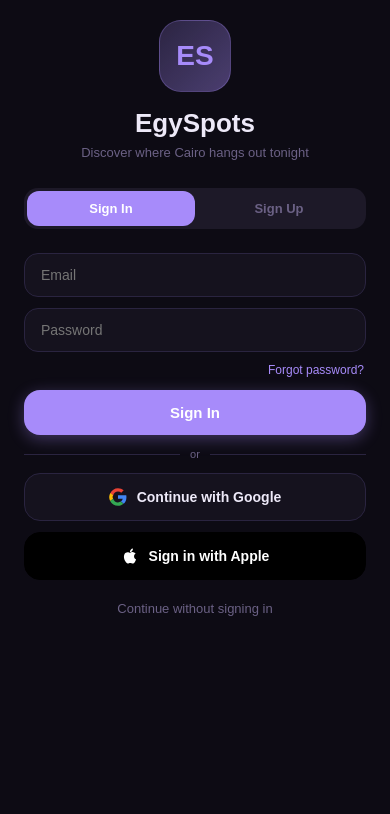
AuthScreen › switches to sign-up mode and shows name field
The width and height of the screenshot is (390, 814).
Step 1. Click the button "Sign Up" → click(279, 208), box [195,191,363,226]
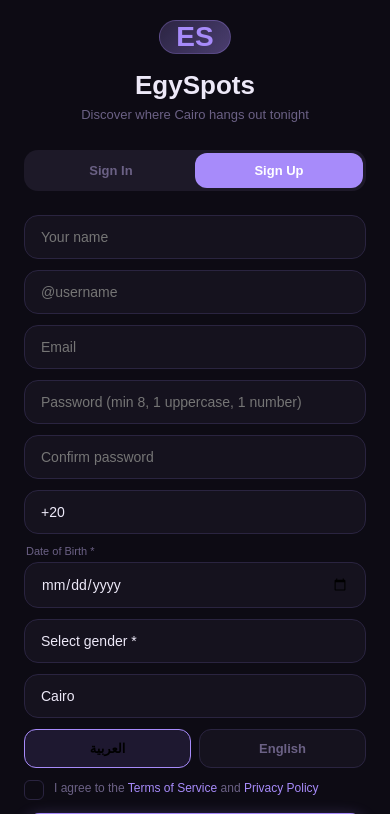
Expected: the field with placeholder "Your name" is shown, [24,215,366,259]
